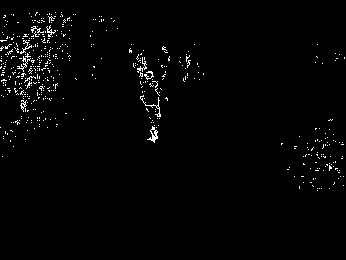person: (136, 67, 168, 145)
